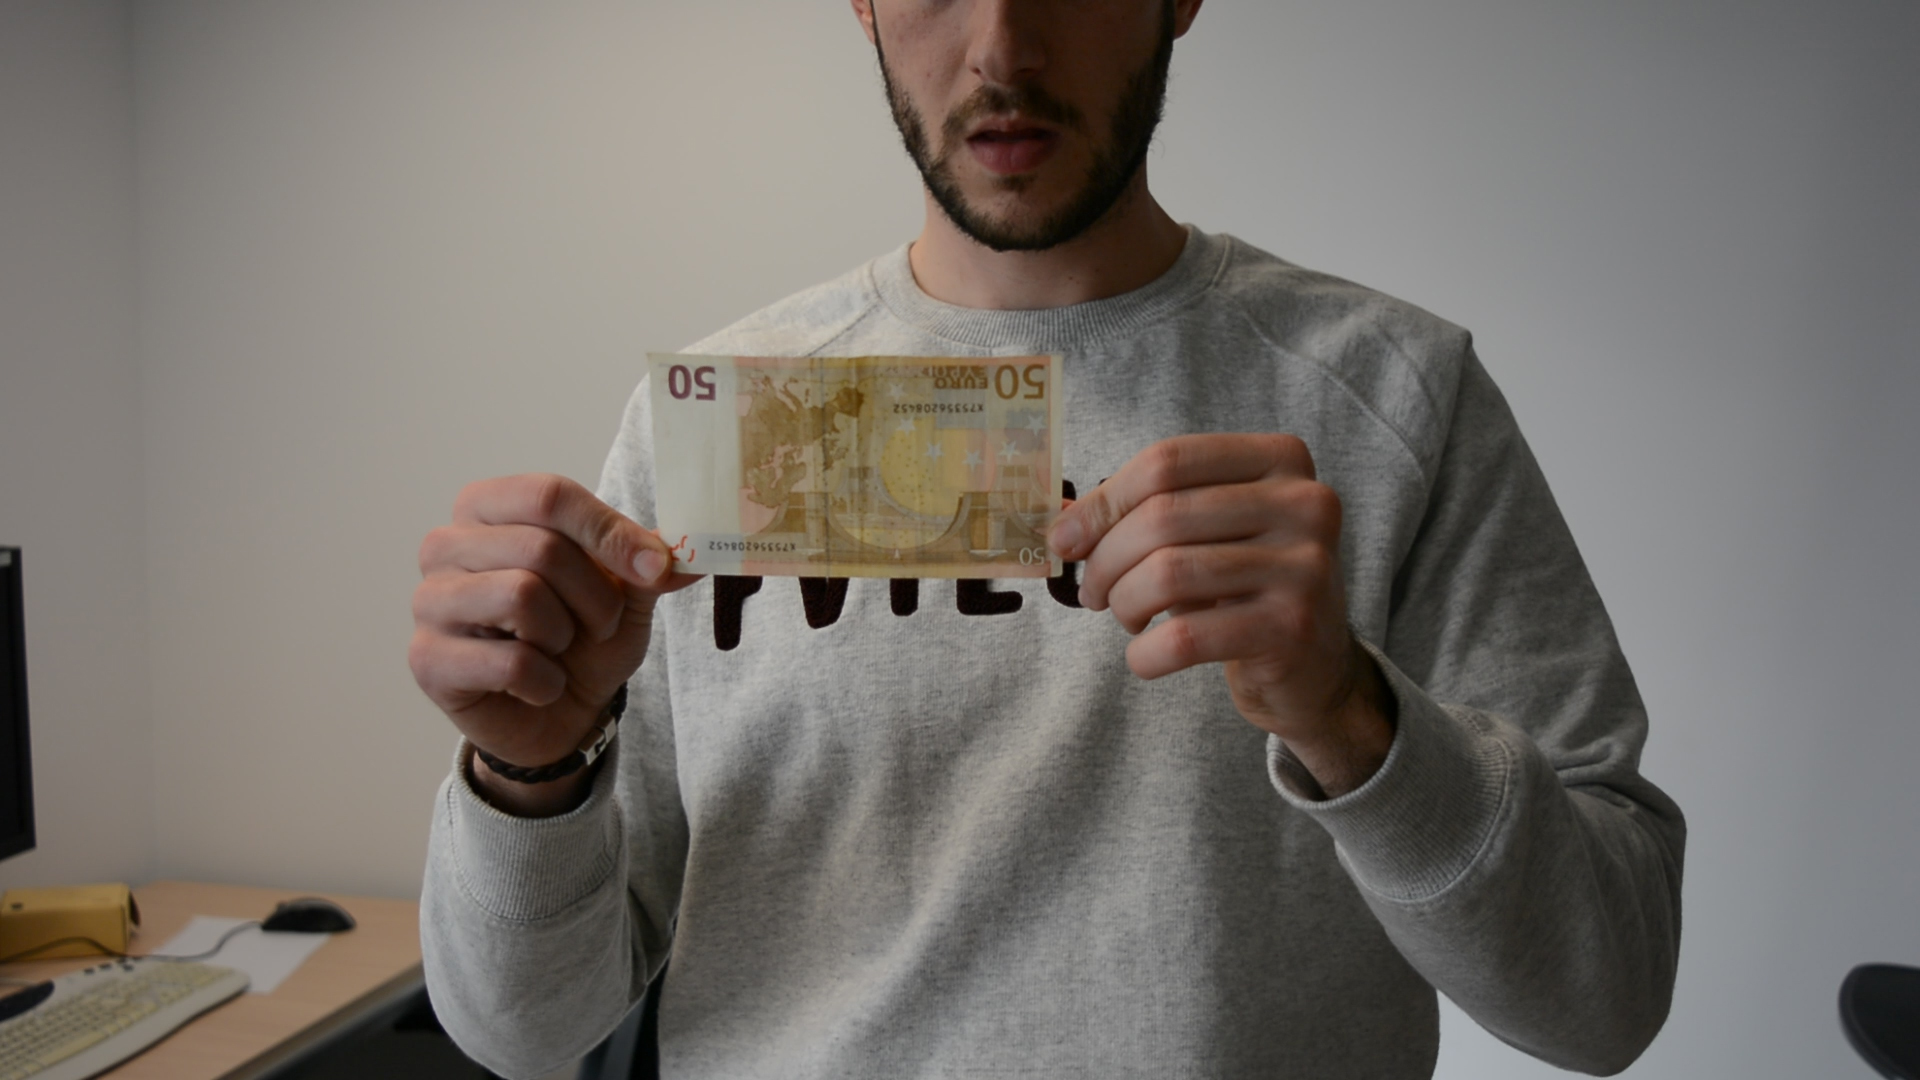billete: (645, 351, 1065, 583)
